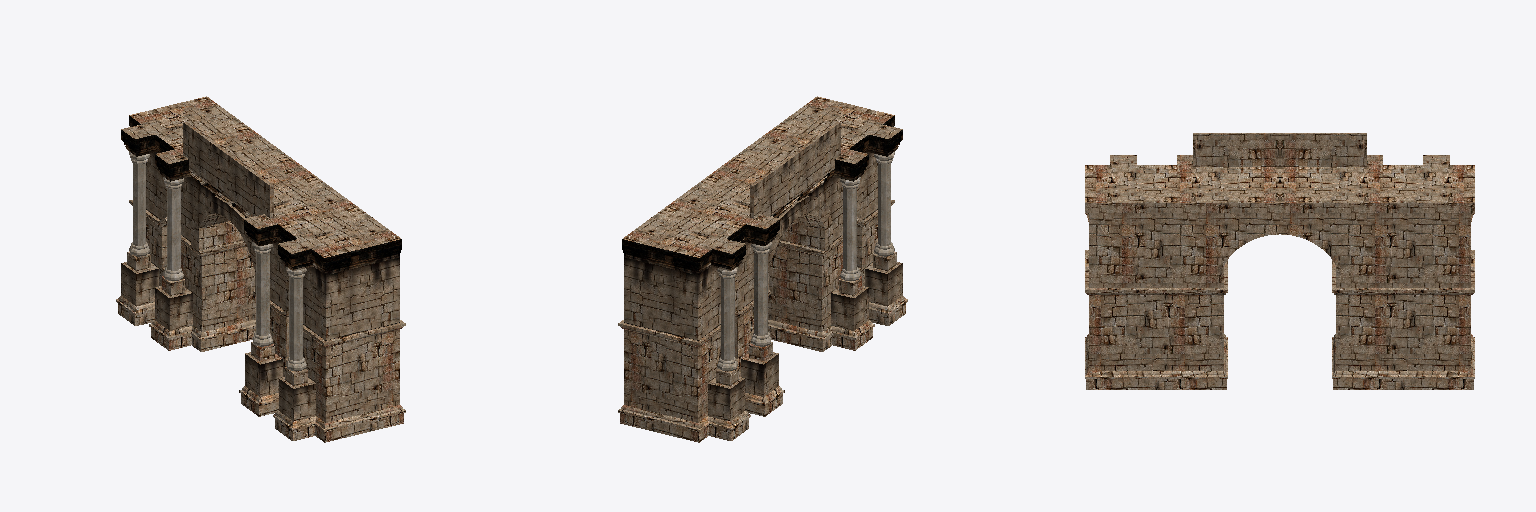
The picture shows the model from 3 angles: view 1: azimuth 30°, elevation 25°; view 2: azimuth 150°, elevation 25°; view 3: azimuth 270°, elevation 25°; orthographic projection.
Parts seen in each view (by area): view 1: Object_texturew.jpg, Object_sucio2.jpg, Object_pilar1.jpg, Object_sucio1.jpg; view 2: Object_texturew.jpg, Object_sucio2.jpg, Object_pilar1.jpg, Object_sucio1.jpg; view 3: Object_texturew.jpg.
Part boxes in pixels (left/top/right/bottom): Object_texturew.jpg: left=116, top=96, right=405, bottom=442; Object_sucio2.jpg: left=121, top=123, right=399, bottom=421; Object_pilar1.jpg: left=129, top=152, right=306, bottom=370; Object_sucio1.jpg: left=121, top=116, right=401, bottom=274; Object_texturew.jpg: left=618, top=96, right=907, bottom=442; Object_sucio2.jpg: left=624, top=123, right=902, bottom=421; Object_pilar1.jpg: left=717, top=152, right=894, bottom=370; Object_sucio1.jpg: left=622, top=116, right=902, bottom=274; Object_texturew.jpg: left=1085, top=133, right=1474, bottom=389.
Size of the model in its own units: 0.7709 by 1.54 by 2.5.
5 materials, 4 textured.